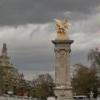Statue: (48, 11, 81, 60)
